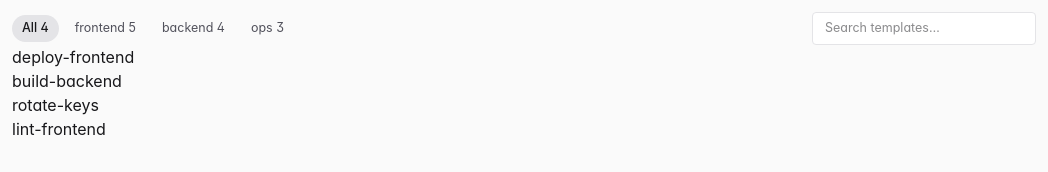
Test: TemplatesToolbar — tag chips › Tag chip filters the rendered set end-to-end
The width and height of the screenshot is (1048, 172).
What coordinates should you click on to do the following:
click the button with test id "tag-chip-frontend"
I would click on:
 (105, 28)
Its box is [65,15,146,42].
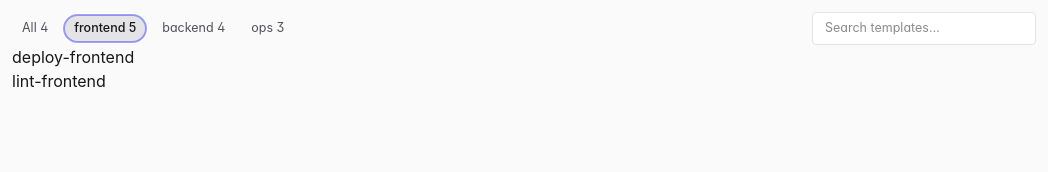
Expected: the list item with test id "row-t2" is gone
Expected: the list item with test id "row-t3" is gone
